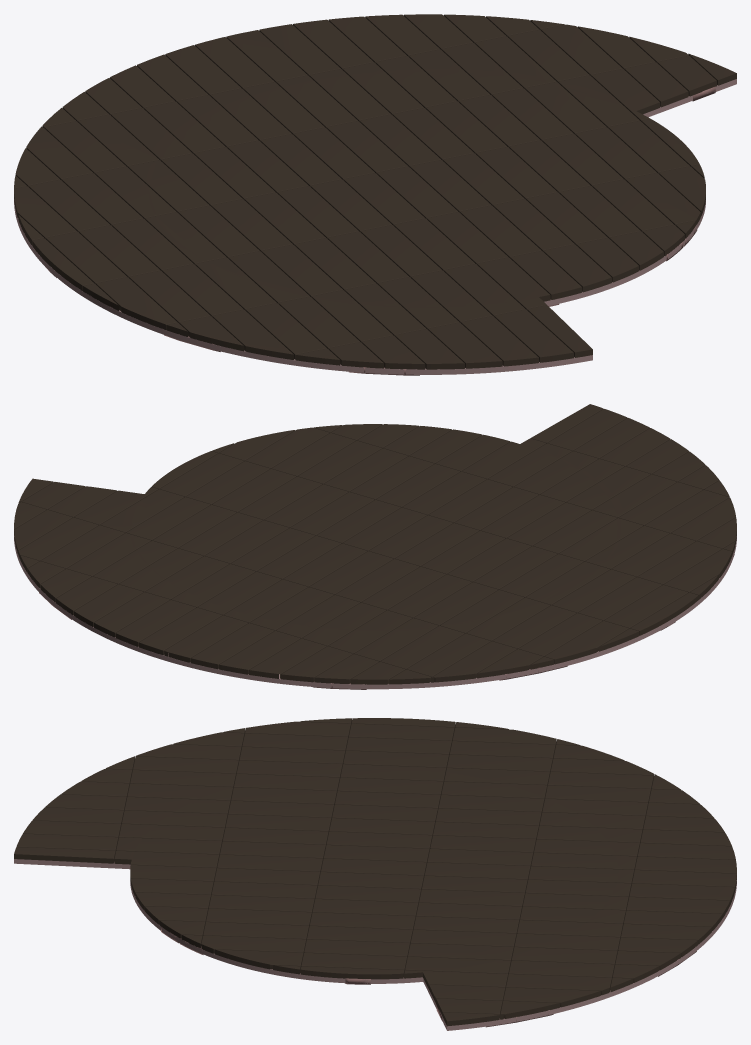
File: Floor.fbx
3 views of the same model, one above another, from view 1: azimuth 30°, elevation 25°; view 2: azimuth 150°, elevation 25°; view 3: azimuth 270°, elevation 25° (orthographic). The views are drawn at different scales.
Visible parts, largest first — view 1: Parquet.002, Left.002, Center.002; view 2: Parquet.002, Right.002, Left.002; view 3: Parquet.002, Right.002, Center.002, Left.002.
Part boxes in pixels (<box>): Parquet.002: <box>14,14,736,369</box>; Left.002: <box>14,199,592,374</box>; Center.002: <box>544,200,705,305</box>; Parquet.002: <box>14,404,736,684</box>; Right.002: <box>14,536,462,689</box>; Left.002: <box>462,536,736,684</box>; Parquet.002: <box>14,718,736,1026</box>; Right.002: <box>423,880,736,1030</box>; Center.002: <box>130,882,423,983</box>; Left.002: <box>14,859,130,869</box>.
Size of the model in its own units: 1386 by 112 by 1396.
